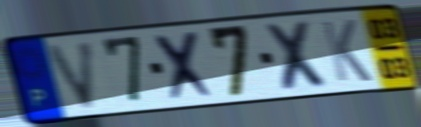7: (205, 23, 252, 101), (99, 34, 145, 108)
K: (319, 18, 375, 85)
V: (44, 38, 98, 112)
X: (261, 18, 334, 93), (151, 28, 220, 104)
